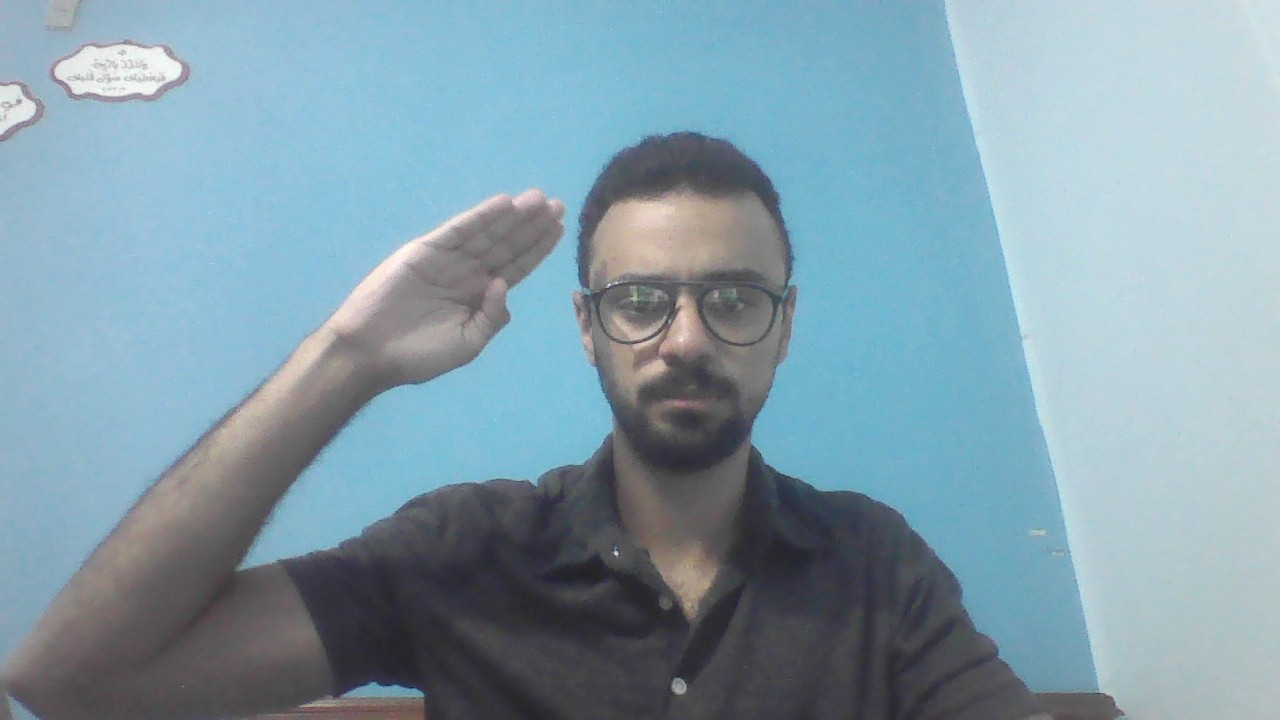hello: (11, 187, 561, 720)
